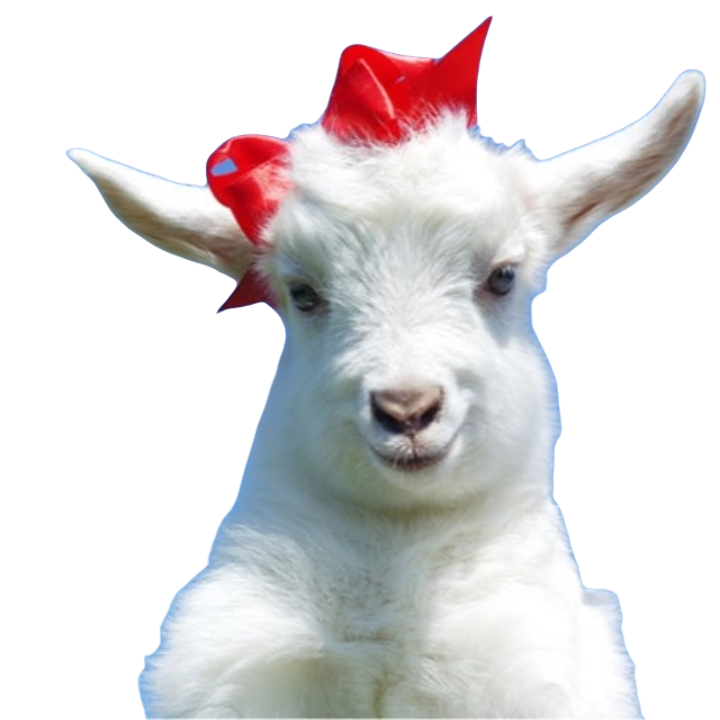Goat: (63, 54, 706, 719)
